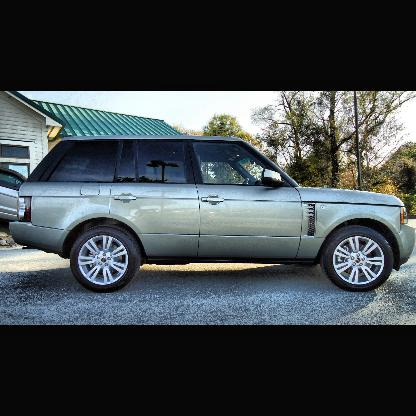Land Rover Range Rover SUV 2012: (9, 135, 416, 293)
